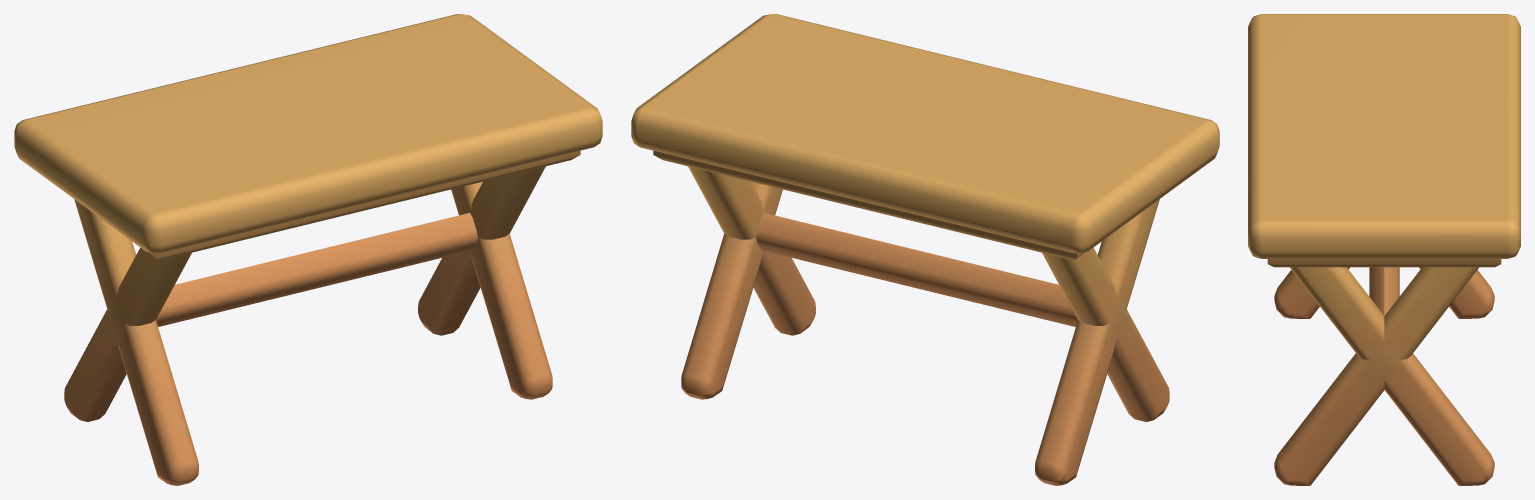
The model's file is Kitchen_Table_03.glb.
3 views of the same model, side by side, from view 1: azimuth 30°, elevation 25°; view 2: azimuth 150°, elevation 25°; view 3: azimuth 270°, elevation 25° (orthographic). The views are drawn at different scales.
Visible parts, largest first — view 1: Kitchen_Table_03; view 2: Kitchen_Table_03; view 3: Kitchen_Table_03.
Part boxes in pixels (x1=…): Kitchen_Table_03: x1=14, y1=14, x2=602, y2=485; Kitchen_Table_03: x1=631, y1=14, x2=1219, y2=485; Kitchen_Table_03: x1=1248, y1=14, x2=1520, y2=485.
Bounding box in the file's own units: 1.18 × 0.7193 × 0.63.
1 material, 1 textured.
